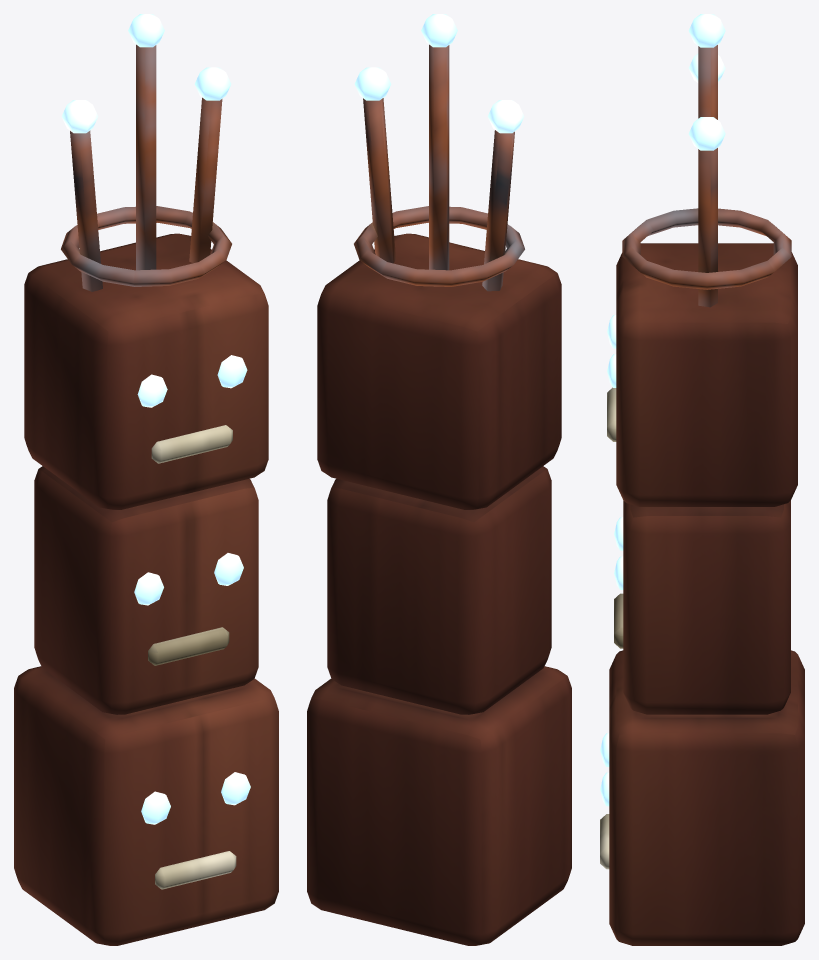
File: ThunderTotem.fbx
3 renders of one model, left to right at view 1: azimuth 30°, elevation 25°; view 2: azimuth 150°, elevation 25°; view 3: azimuth 270°, elevation 25°, orthographic.
Parts seen in each view (by area): view 1: ThunderTotem; view 2: ThunderTotem; view 3: ThunderTotem.
Part boxes in pixels (x1,y1,x2,y2): ThunderTotem: [14, 14, 278, 945]; ThunderTotem: [307, 14, 571, 945]; ThunderTotem: [600, 14, 804, 945].
Bounding box in the file's own units: 0.14 × 0.637 × 0.132.
